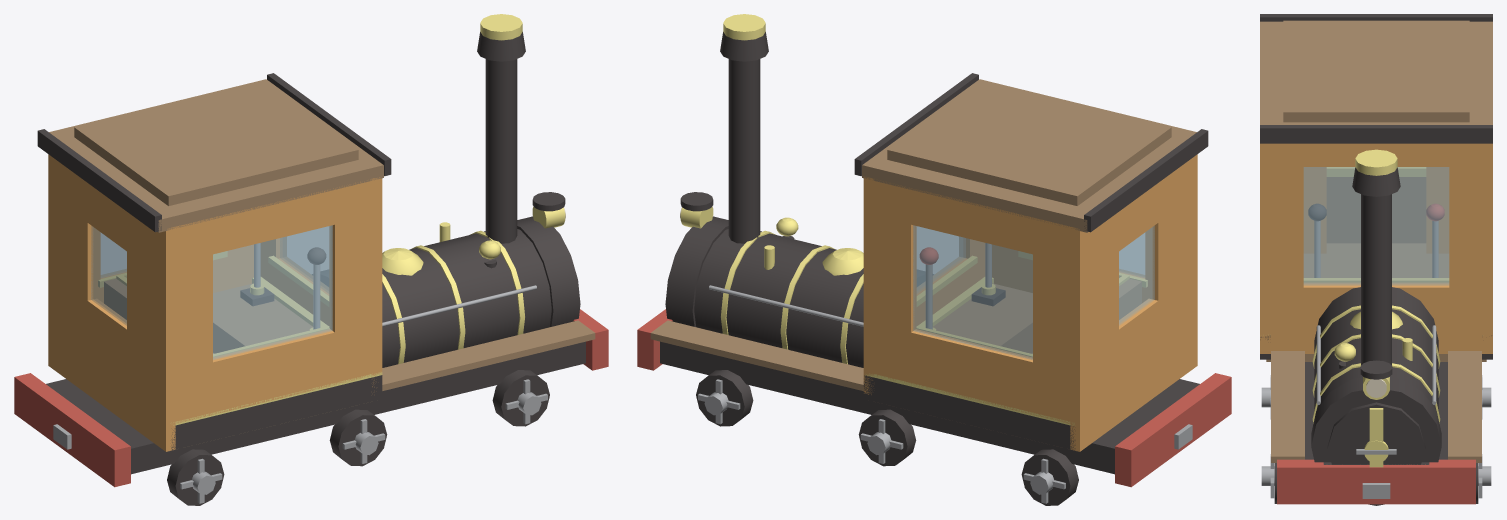
File: loco.glb
3 views of the same model, side by side, from view 1: azimuth 30°, elevation 25°; view 2: azimuth 150°, elevation 25°; view 3: azimuth 270°, elevation 25° (orthographic).
Parts seen in each view (by area): view 1: Dach_Aufsatz, Kessel, Glass_Seite_-1, Fuehrerhaus_Heck_Unten, Fuehrerhaus_Seite_-1_Unten, Chassis, Dach, Fuehrerhaus_Seite_-1_Oben, Kamin, Puffer_Hinten, Fuehrerhaus_Heck_Oben, Fuehrerhaus_Seite_-1_Sockel (+26 smaller); view 2: Dach_Aufsatz, Kessel, Glass_Seite_1, Fuehrerhaus_Heck_Unten, Fuehrerhaus_Seite_1_Unten, Chassis, Dach, Fuehrerhaus_Seite_1_Oben, Kamin, Puffer_Hinten, Fuehrerhaus_Seite_1_Vorn, Fuehrerhaus_Seite_1_Sockel (+27 smaller); view 3: Dach_Aufsatz, Glass_Front, Fuehrerhaus_Front_Sill, Puffer_Vorn, Kessel, Dach, Kamin, Fuehrerhaus_Front_Head, Fuehrerhaus_Front_Pfosten_1, Fuehrerhaus_Front_Pfosten_-1, Rauchkammer, Dachkante_Vorn (+30 smaller).
Part boxes in pixels (x1=…): Dach_Aufsatz: x1=74, y1=81, x2=358, y2=205; Kessel: x1=312, y1=229, x2=551, y2=367; Glass_Seite_-1: x1=213, y1=225, x2=332, y2=359; Fuehrerhaus_Heck_Unten: x1=48, y1=272, x2=175, y2=451; Fuehrerhaus_Seite_-1_Unten: x1=170, y1=322, x2=382, y2=424; Chassis: x1=46, y1=341, x2=585, y2=474; Dach: x1=49, y1=79, x2=383, y2=232; Fuehrerhaus_Seite_-1_Oben: x1=170, y1=177, x2=382, y2=264; Kamin: x1=485, y1=59, x2=517, y2=243; Puffer_Hinten: x1=14, y1=373, x2=130, y2=487; Fuehrerhaus_Heck_Oben: x1=48, y1=154, x2=175, y2=279; Fuehrerhaus_Seite_-1_Sockel: x1=171, y1=375, x2=382, y2=450; Dach_Aufsatz: x1=887, y1=81, x2=1171, y2=205; Kessel: x1=694, y1=229, x2=933, y2=367; Glass_Seite_1: x1=913, y1=225, x2=1032, y2=359; Fuehrerhaus_Heck_Unten: x1=1070, y1=272, x2=1197, y2=451; Fuehrerhaus_Seite_1_Unten: x1=868, y1=323, x2=1075, y2=424; Chassis: x1=660, y1=341, x2=1199, y2=474; Dach: x1=862, y1=79, x2=1196, y2=232; Fuehrerhaus_Seite_1_Oben: x1=867, y1=180, x2=1075, y2=264; Kamin: x1=728, y1=59, x2=760, y2=243; Puffer_Hinten: x1=1115, y1=373, x2=1231, y2=487; Fuehrerhaus_Seite_1_Vorn: x1=863, y1=213, x2=916, y2=332; Fuehrerhaus_Seite_1_Sockel: x1=863, y1=375, x2=1075, y2=450; Dach_Aufsatz: x1=1283, y1=20, x2=1469, y2=122; Glass_Front: x1=1303, y1=167, x2=1449, y2=285; Fuehrerhaus_Front_Sill: x1=1260, y1=283, x2=1492, y2=353; Puffer_Vorn: x1=1277, y1=459, x2=1475, y2=504; Kessel: x1=1314, y1=287, x2=1438, y2=410; Dach: x1=1260, y1=21, x2=1492, y2=124; Kamin: x1=1361, y1=194, x2=1391, y2=364; Fuehrerhaus_Front_Head: x1=1260, y1=143, x2=1492, y2=166; Fuehrerhaus_Front_Pfosten_1: x1=1449, y1=167, x2=1492, y2=287; Fuehrerhaus_Front_Pfosten_-1: x1=1260, y1=167, x2=1303, y2=287; Rauchkammer: x1=1311, y1=377, x2=1441, y2=505; Dachkante_Vorn: x1=1260, y1=125, x2=1492, y2=143.
Bounding box in the file's own units: 1.85 × 1.26 × 0.75.
